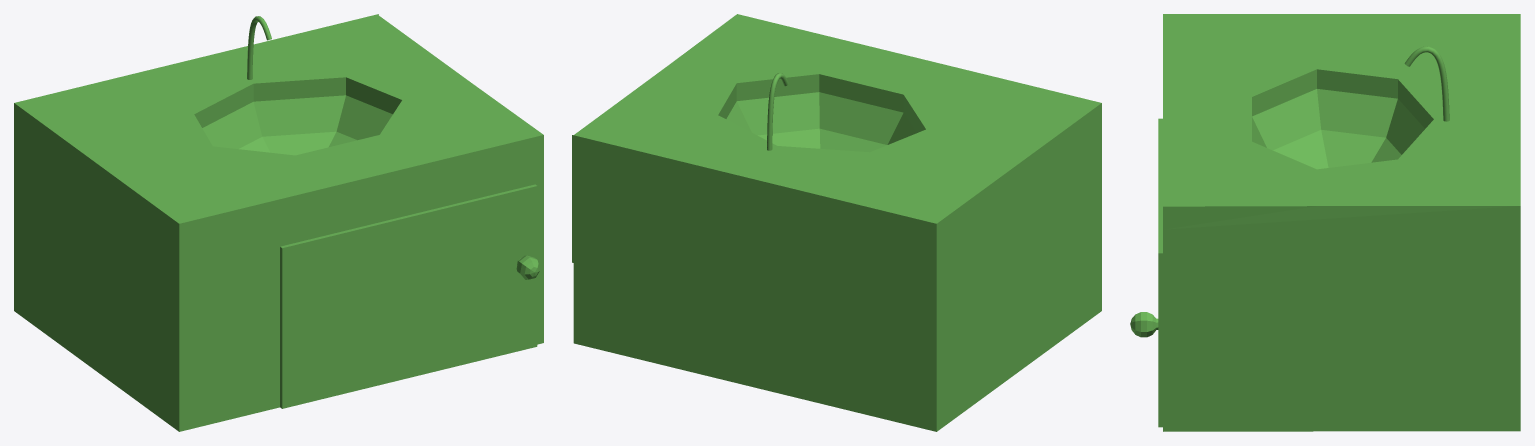
Rendered from Sinkv2.fbx.
3 renders of one model, left to right at view 1: azimuth 30°, elevation 25°; view 2: azimuth 150°, elevation 25°; view 3: azimuth 270°, elevation 25°, orthographic. The views are drawn at different scales.
Visible parts, largest first — view 1: Drawer7, pSphere3, MainBathFaucet1; view 2: Drawer7, MainBathFaucet1; view 3: Drawer7, pSphere3, MainBathFaucet1.
Boxes of the visible parts, x1,y1,x2,y2 form: Drawer7: [14, 14, 543, 431]; pSphere3: [280, 184, 539, 408]; MainBathFaucet1: [247, 16, 271, 79]; Drawer7: [572, 14, 1101, 431]; MainBathFaucet1: [767, 73, 788, 150]; Drawer7: [1163, 14, 1520, 431]; pSphere3: [1130, 118, 1162, 427]; MainBathFaucet1: [1404, 46, 1449, 121].
Bounding box in the file's own units: 142 × 103 × 122.
